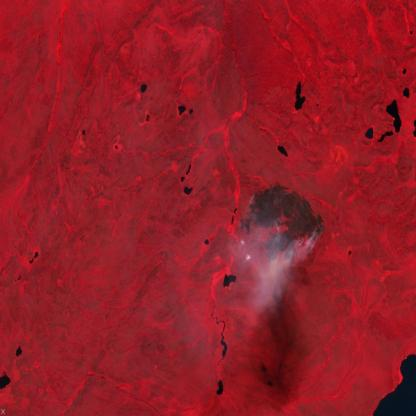fire: (236, 177, 329, 272)
